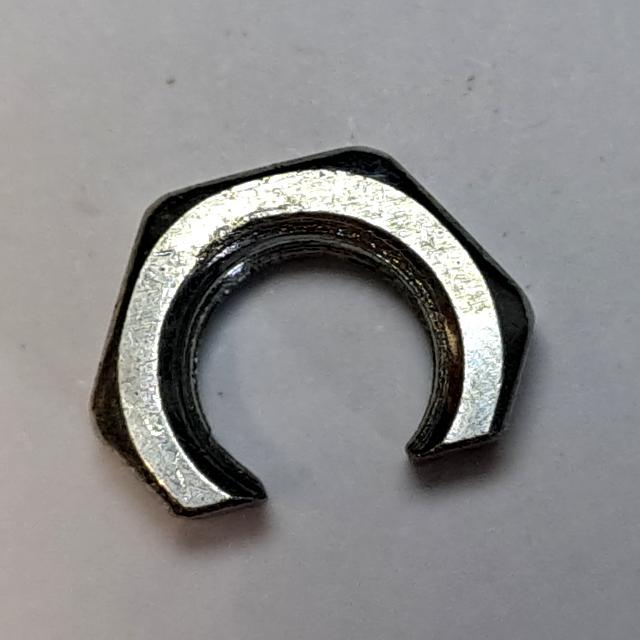Fracture: (72, 138, 547, 539)
